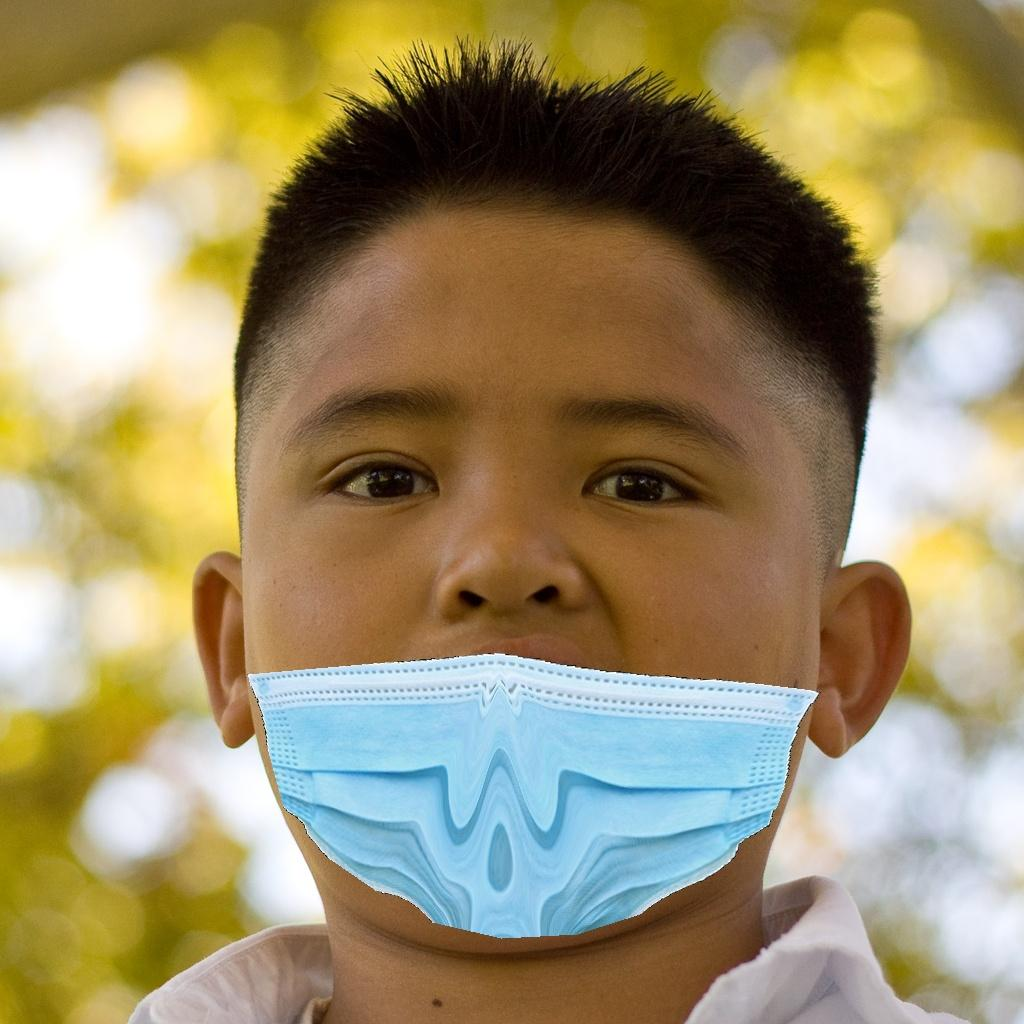Máscara Incorreta: (281, 270, 822, 920)
